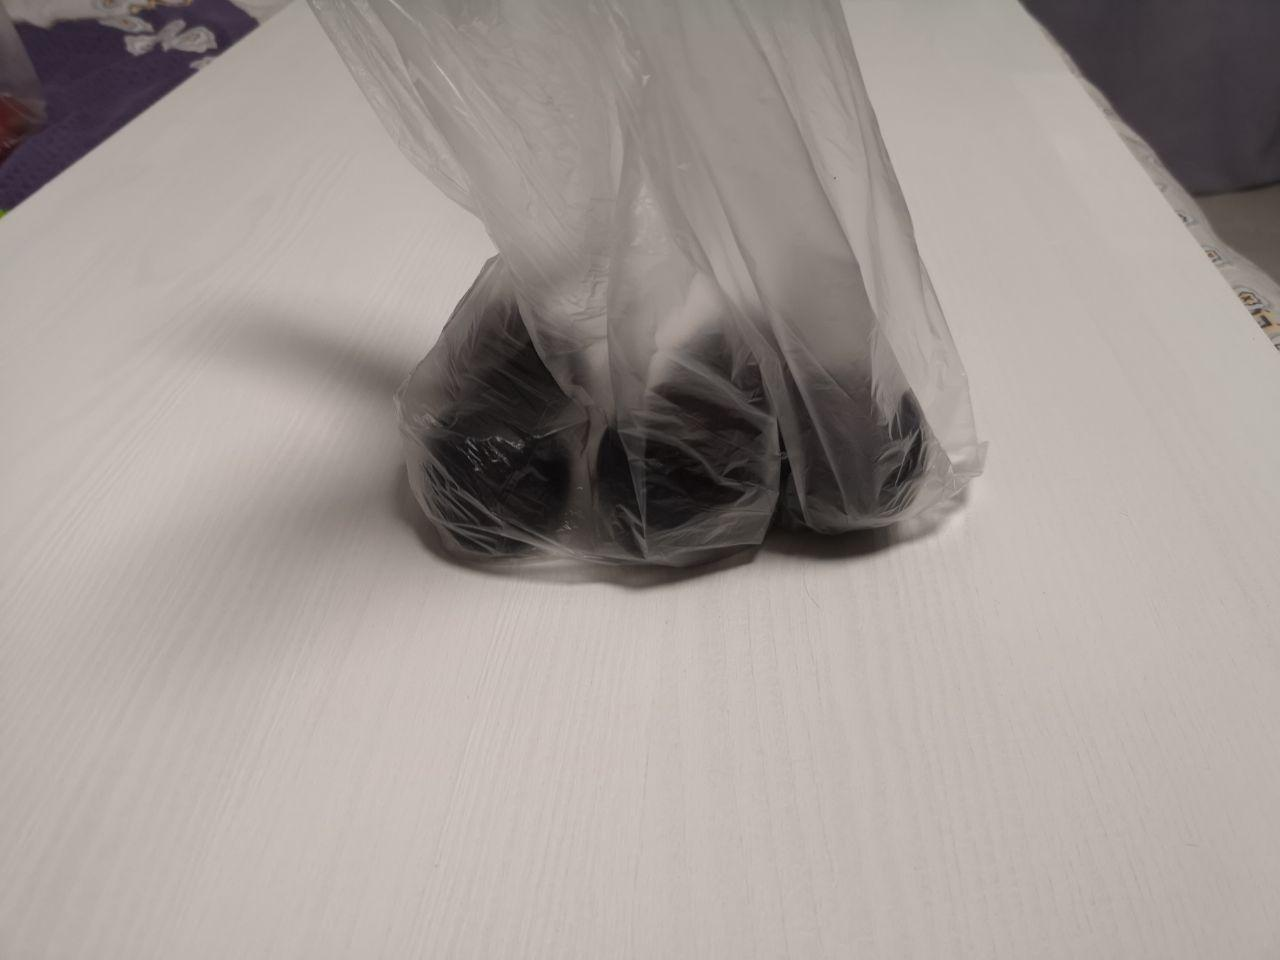plum: (352, 235, 988, 642)
